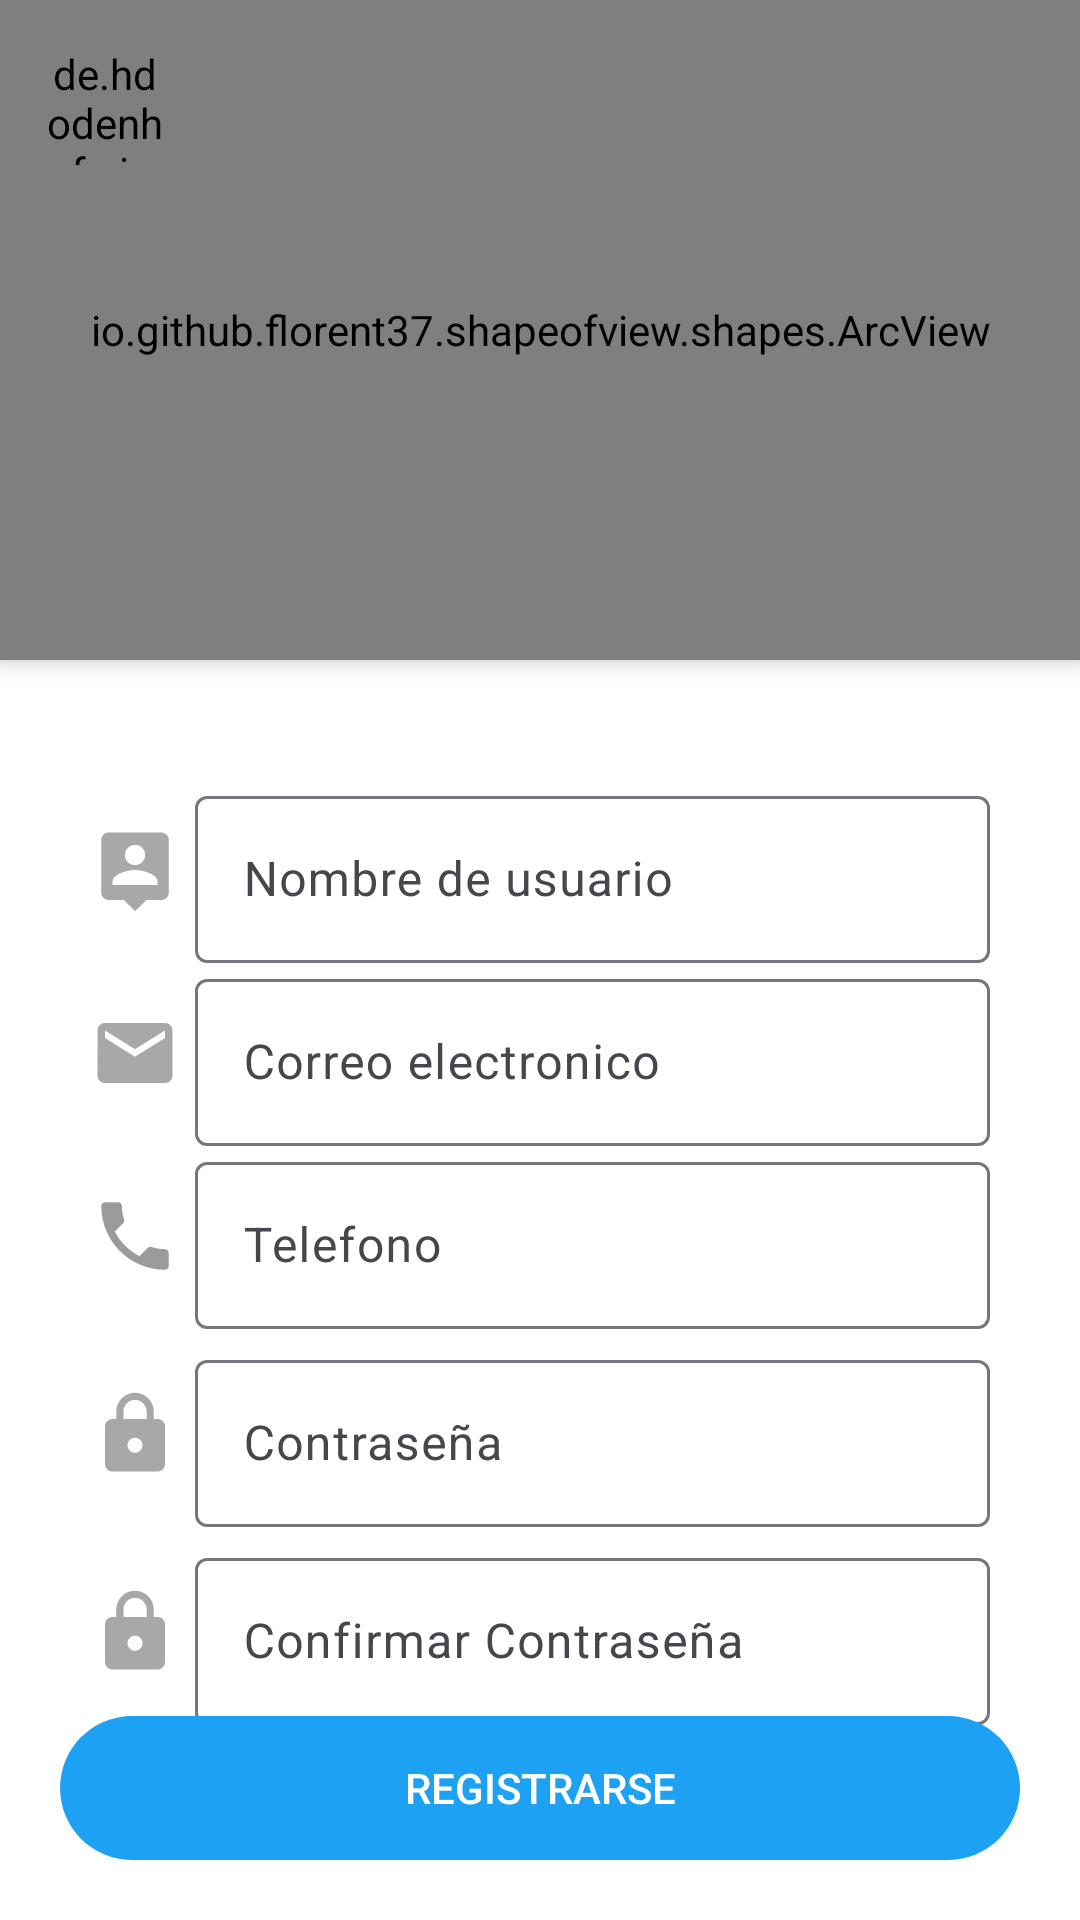

Icons on this 1080px x 1920px Android screen, each with the point to tap as [x,y]:
email: [135,1053]
person pin: [135,871]
phone: [135,1236]
